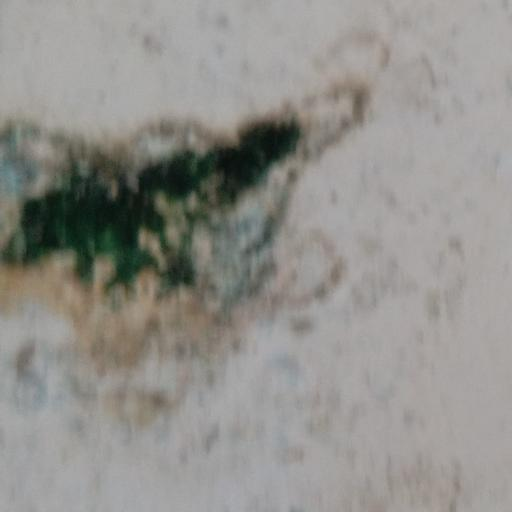algae: (12, 56, 405, 386)
